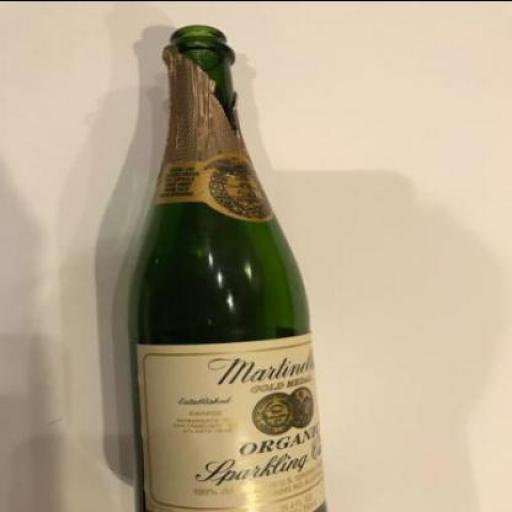glass: (128, 23, 330, 511)
